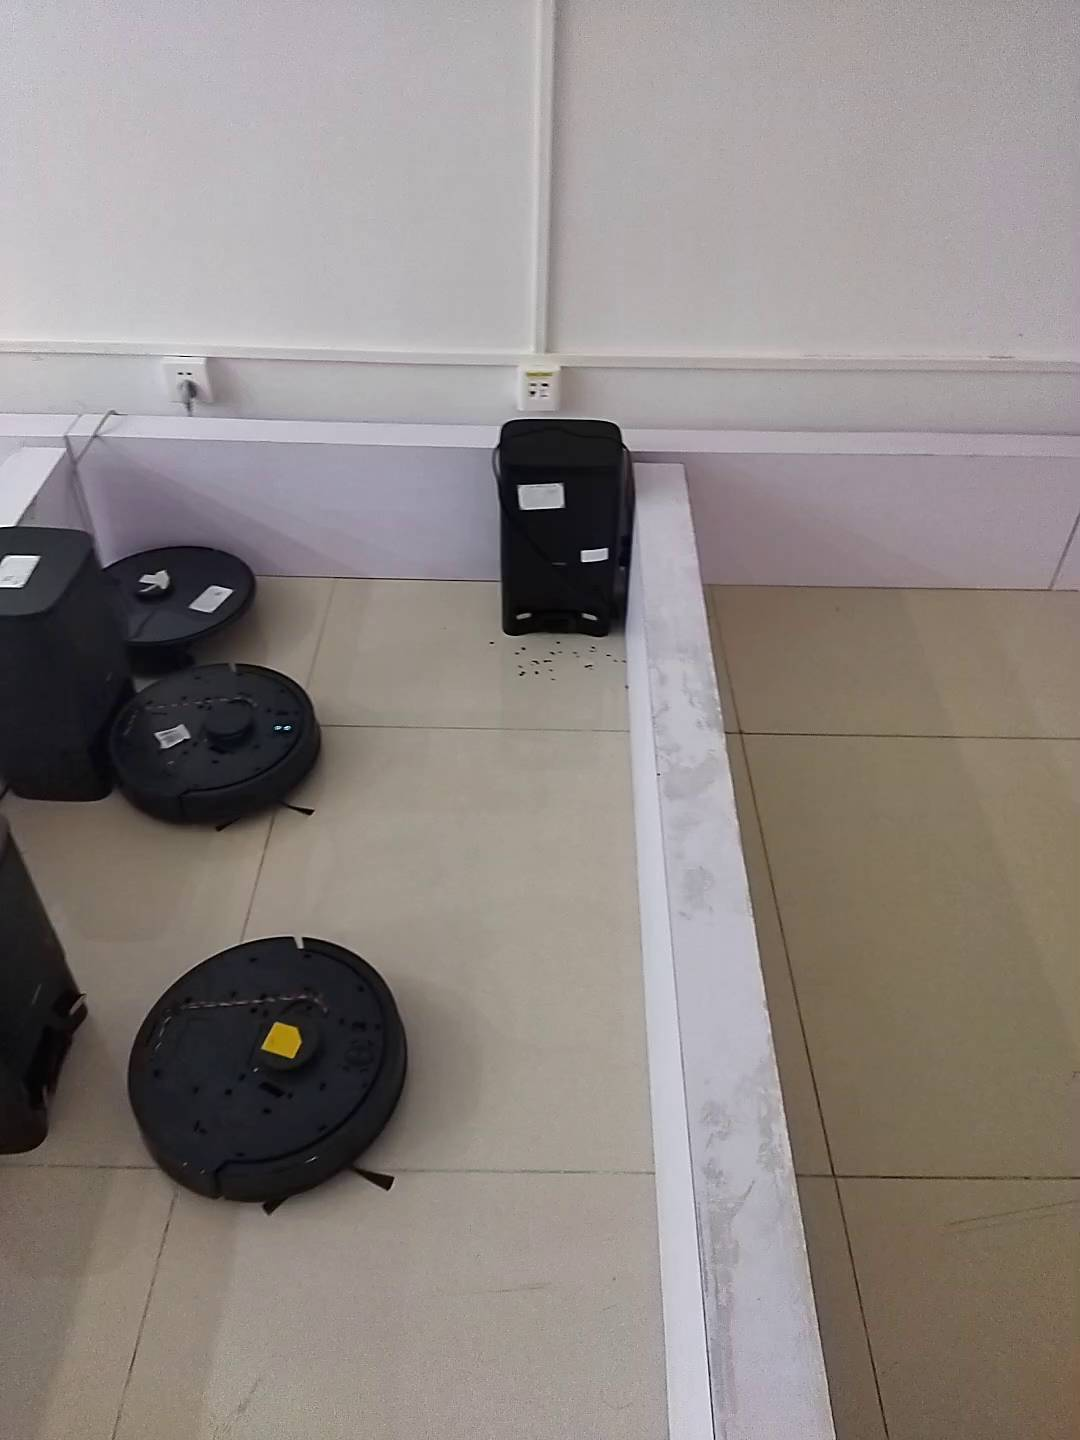dust collecting barrel: (1, 523, 133, 801), (500, 420, 634, 639)
